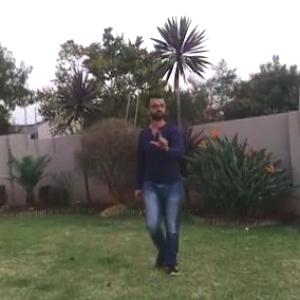land_hand: (152, 118, 181, 154)
